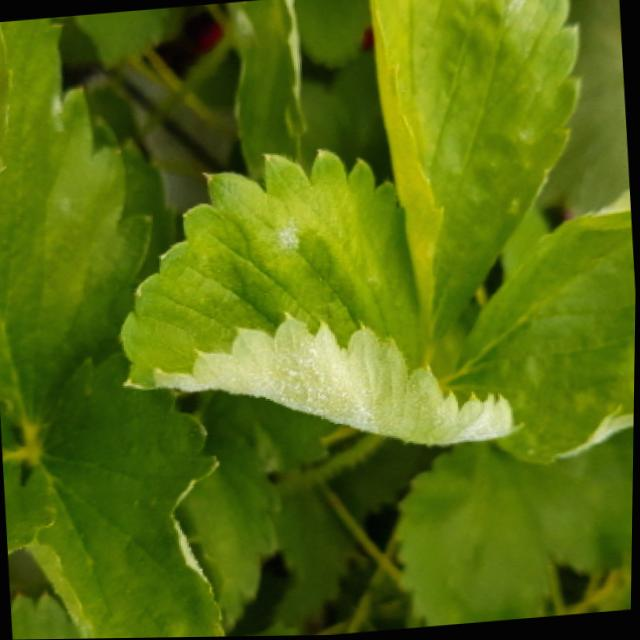Powdery Mildew Leaf: (122, 150, 523, 451), (366, 0, 583, 356), (28, 351, 230, 639)
